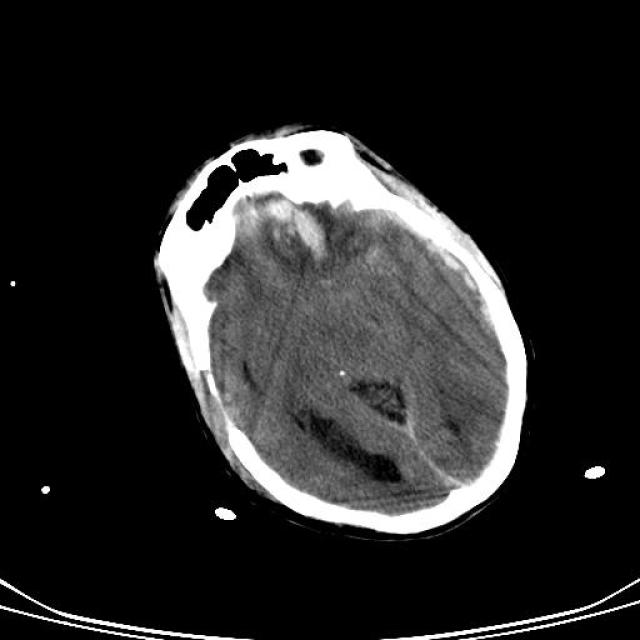Intraparenchymal: (252, 190, 344, 281)
Subdural: (432, 242, 496, 312)
